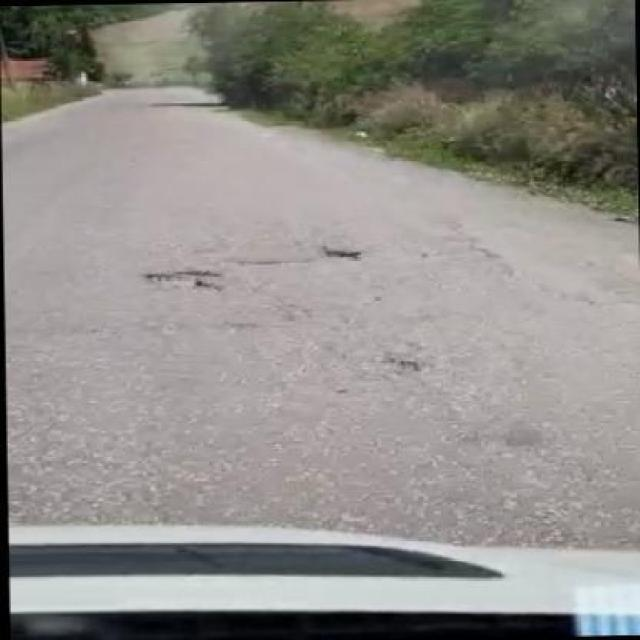Pothole: (143, 267, 227, 298), (322, 247, 364, 263)
